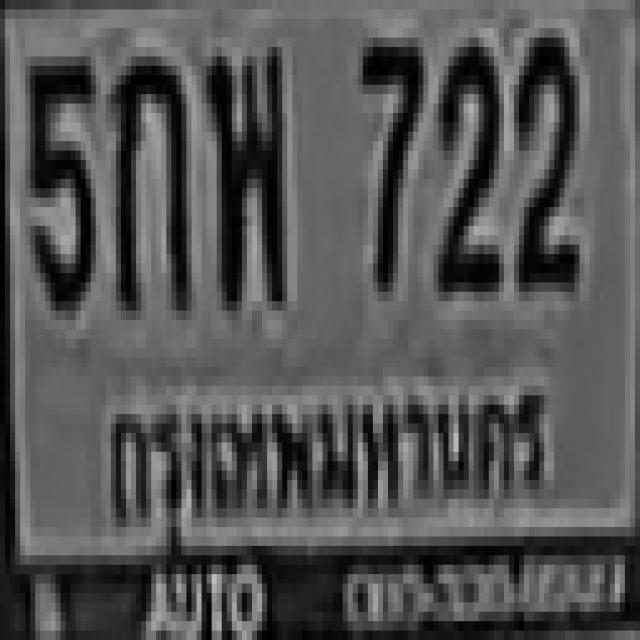10GorGai: (111, 47, 186, 311)
2: (512, 24, 577, 278), (436, 29, 496, 282)
39PhorPan: (202, 38, 282, 301)
5: (25, 47, 91, 301)
7: (358, 29, 418, 282)
Bangkok: (97, 357, 554, 552)
